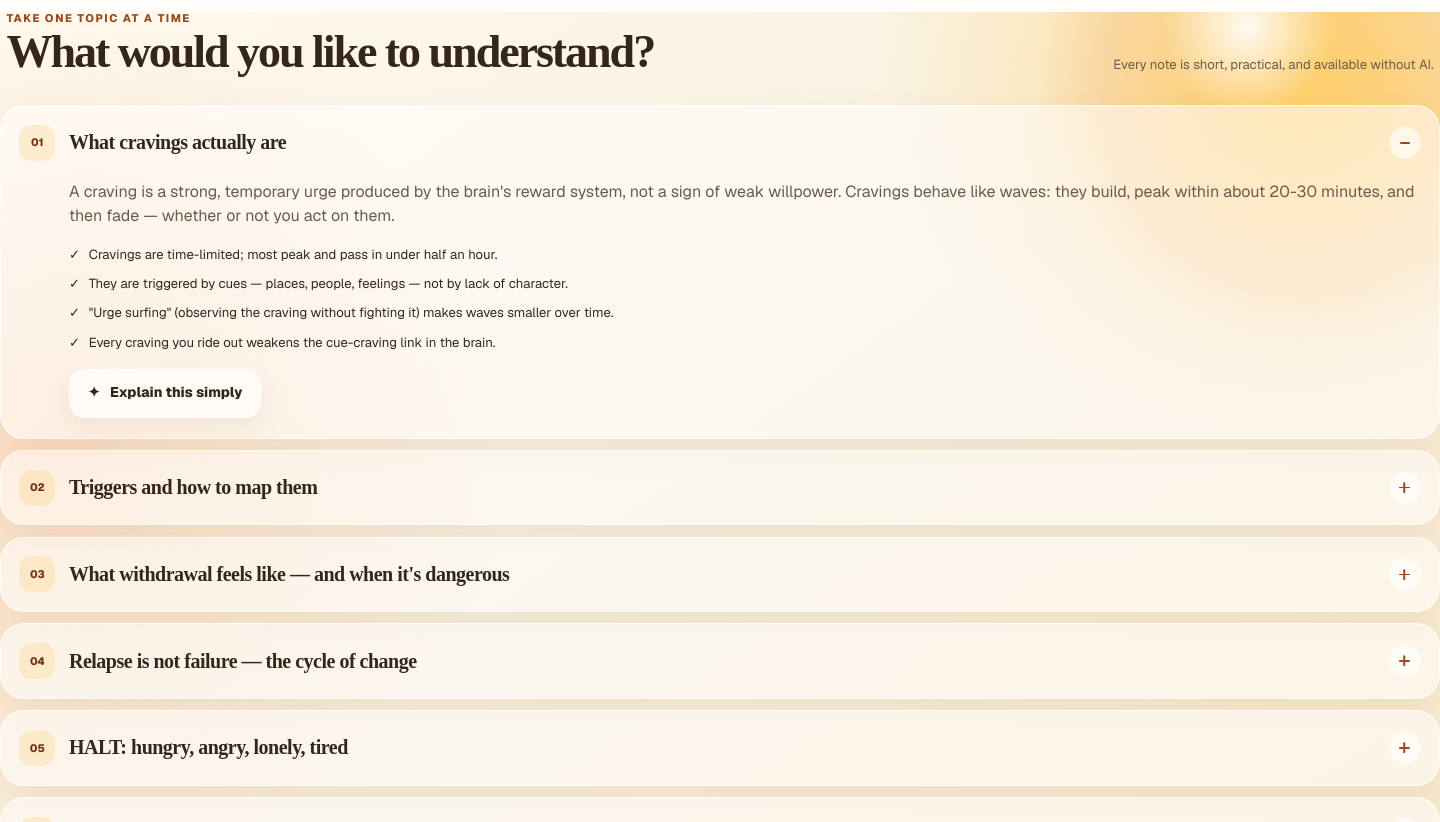
LearnClient › renders curated content and adds the AI explanation on demand
This screenshot has width=1440, height=822.
Expected: the heading "What would you like to understand?" is shown, [6,29,654,75]
Click the button "✦ Explain this simply". click: (165, 393)
box: [69,369,261,418]
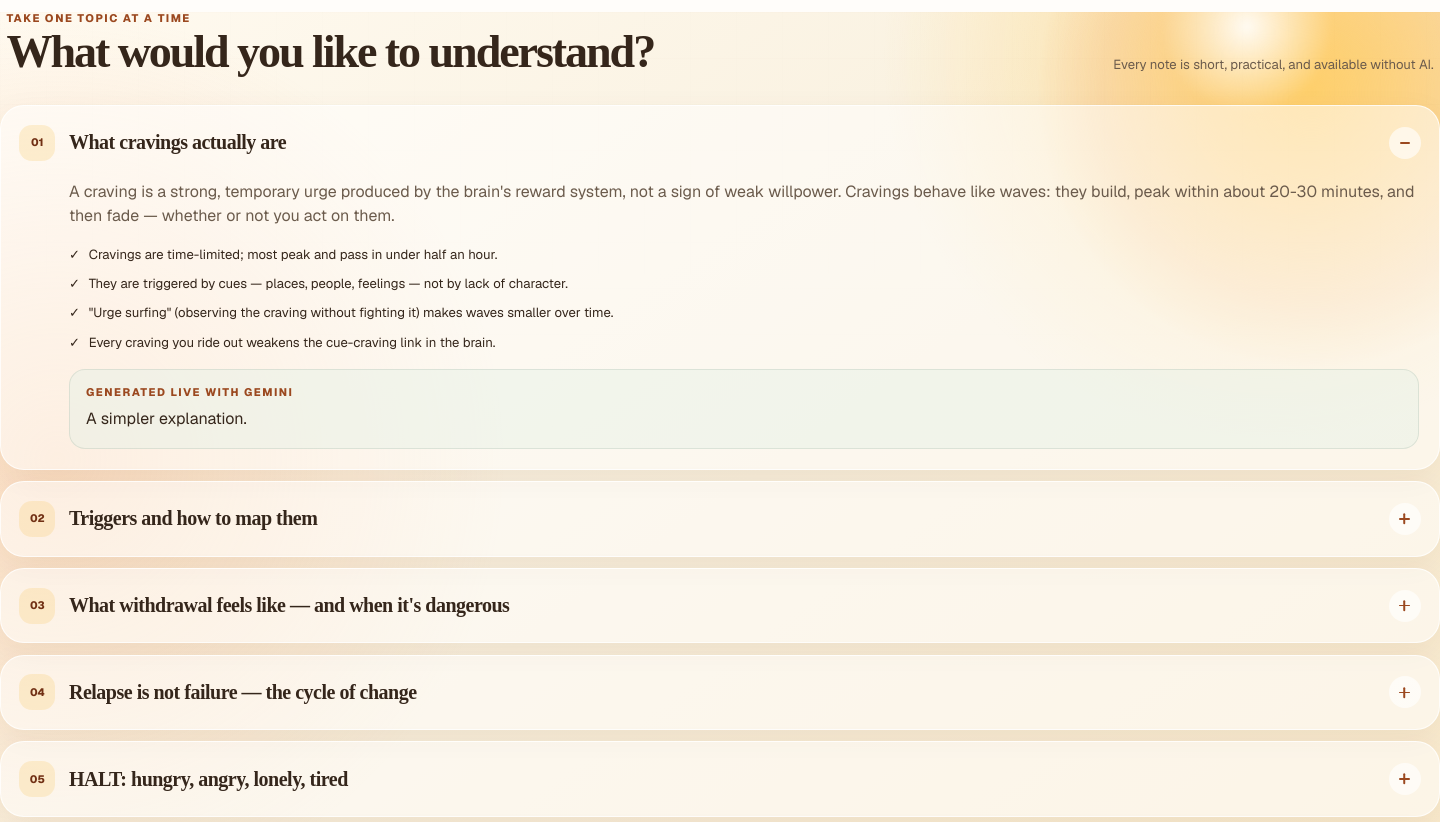
Expected: the text "A simpler explanation." is shown, [86,408,247,429]
